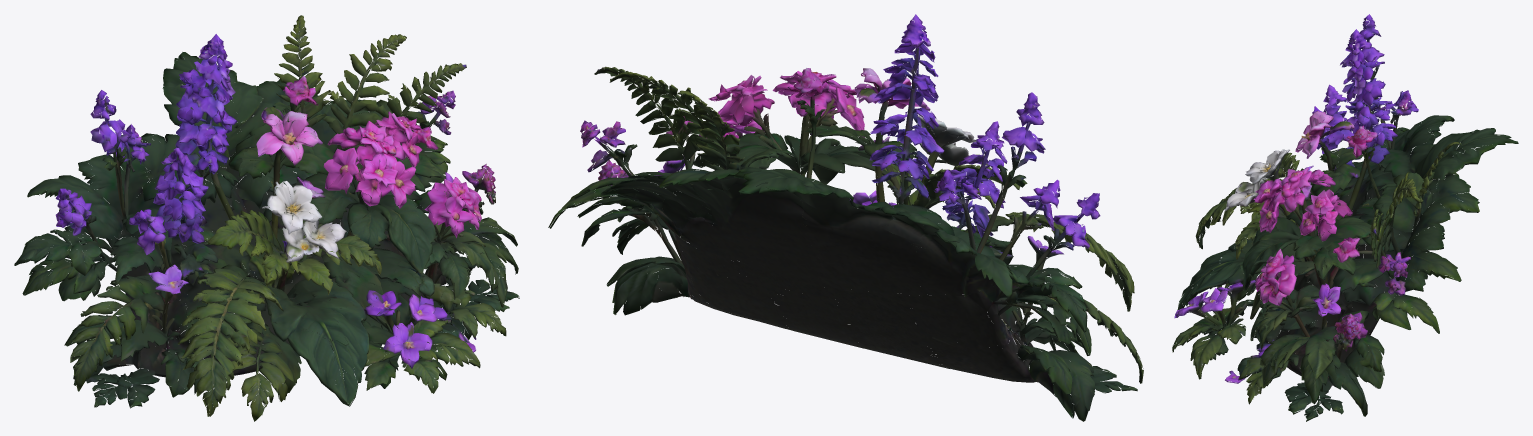
File: shrub.glb
The picture shows the model from 3 angles, left to right: view 1: azimuth 30°, elevation 25°; view 2: azimuth 150°, elevation 25°; view 3: azimuth 270°, elevation 25°; orthographic projection. The views are drawn at different scales.
Parts seen in each view (by area): view 1: tripo_node_81d9d0e3-9f11-48b7-9091-1b66928af152; view 2: tripo_node_81d9d0e3-9f11-48b7-9091-1b66928af152; view 3: tripo_node_81d9d0e3-9f11-48b7-9091-1b66928af152.
Boxes of the visible parts, left/top/right/bottom form: tripo_node_81d9d0e3-9f11-48b7-9091-1b66928af152: left=14, top=15, right=519, bottom=421; tripo_node_81d9d0e3-9f11-48b7-9091-1b66928af152: left=548, top=14, right=1143, bottom=421; tripo_node_81d9d0e3-9f11-48b7-9091-1b66928af152: left=1172, top=14, right=1518, bottom=421.
Size of the model in its own units: 2.99 by 2 by 2.25.
Materials: 1 (1 with a texture image).
